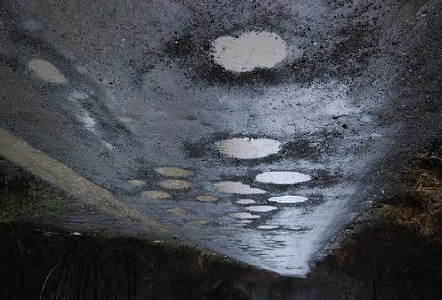pothole: (199, 29, 298, 84), (207, 134, 288, 163), (250, 169, 315, 189), (24, 59, 69, 87), (209, 179, 266, 197), (152, 165, 197, 179), (265, 193, 311, 206), (155, 178, 192, 190), (138, 189, 174, 200), (227, 211, 263, 220), (243, 204, 277, 213), (255, 224, 280, 232), (195, 196, 219, 204)
